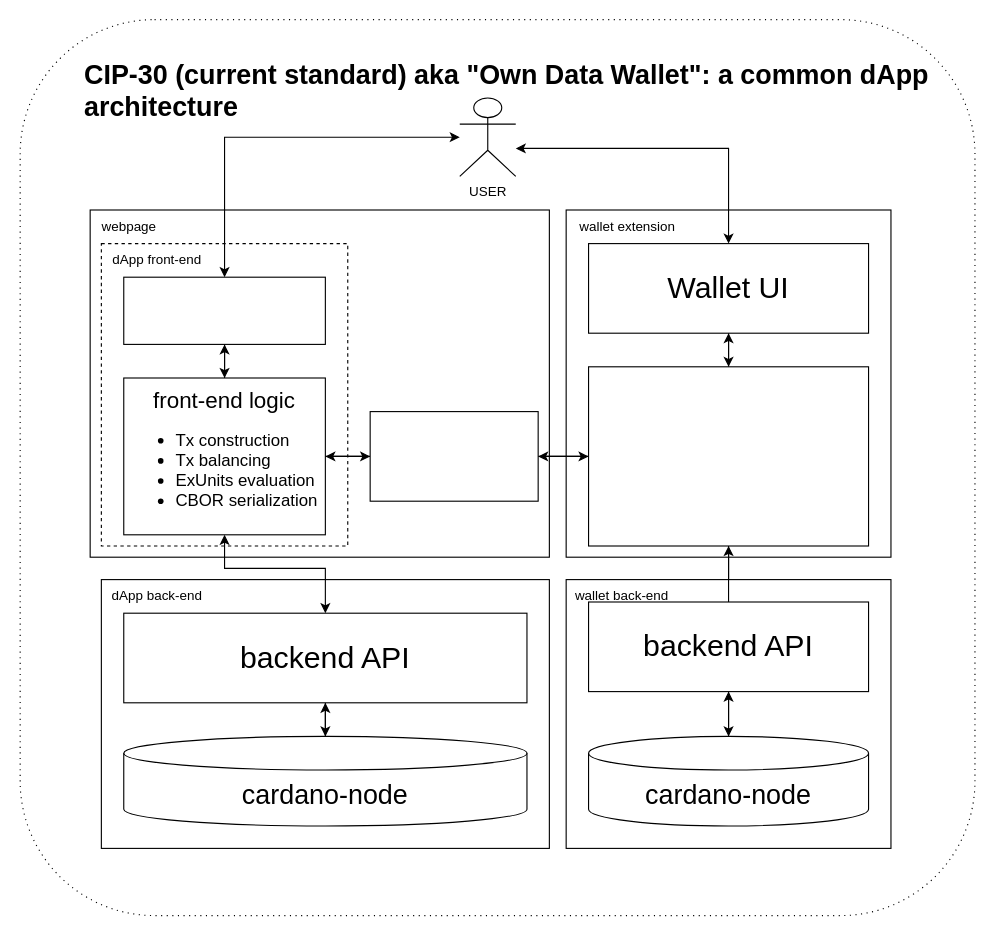
Image size: 995x935. Some labels were removed from this diagram. The centre of each missing label's shape, as x and y in pixels:
CIP-30 API Entrypoint: point 453,455
CIP-30 Implementation UTxO management UTxO selection Key management: point 728,456
front-end UI: point 224,310
